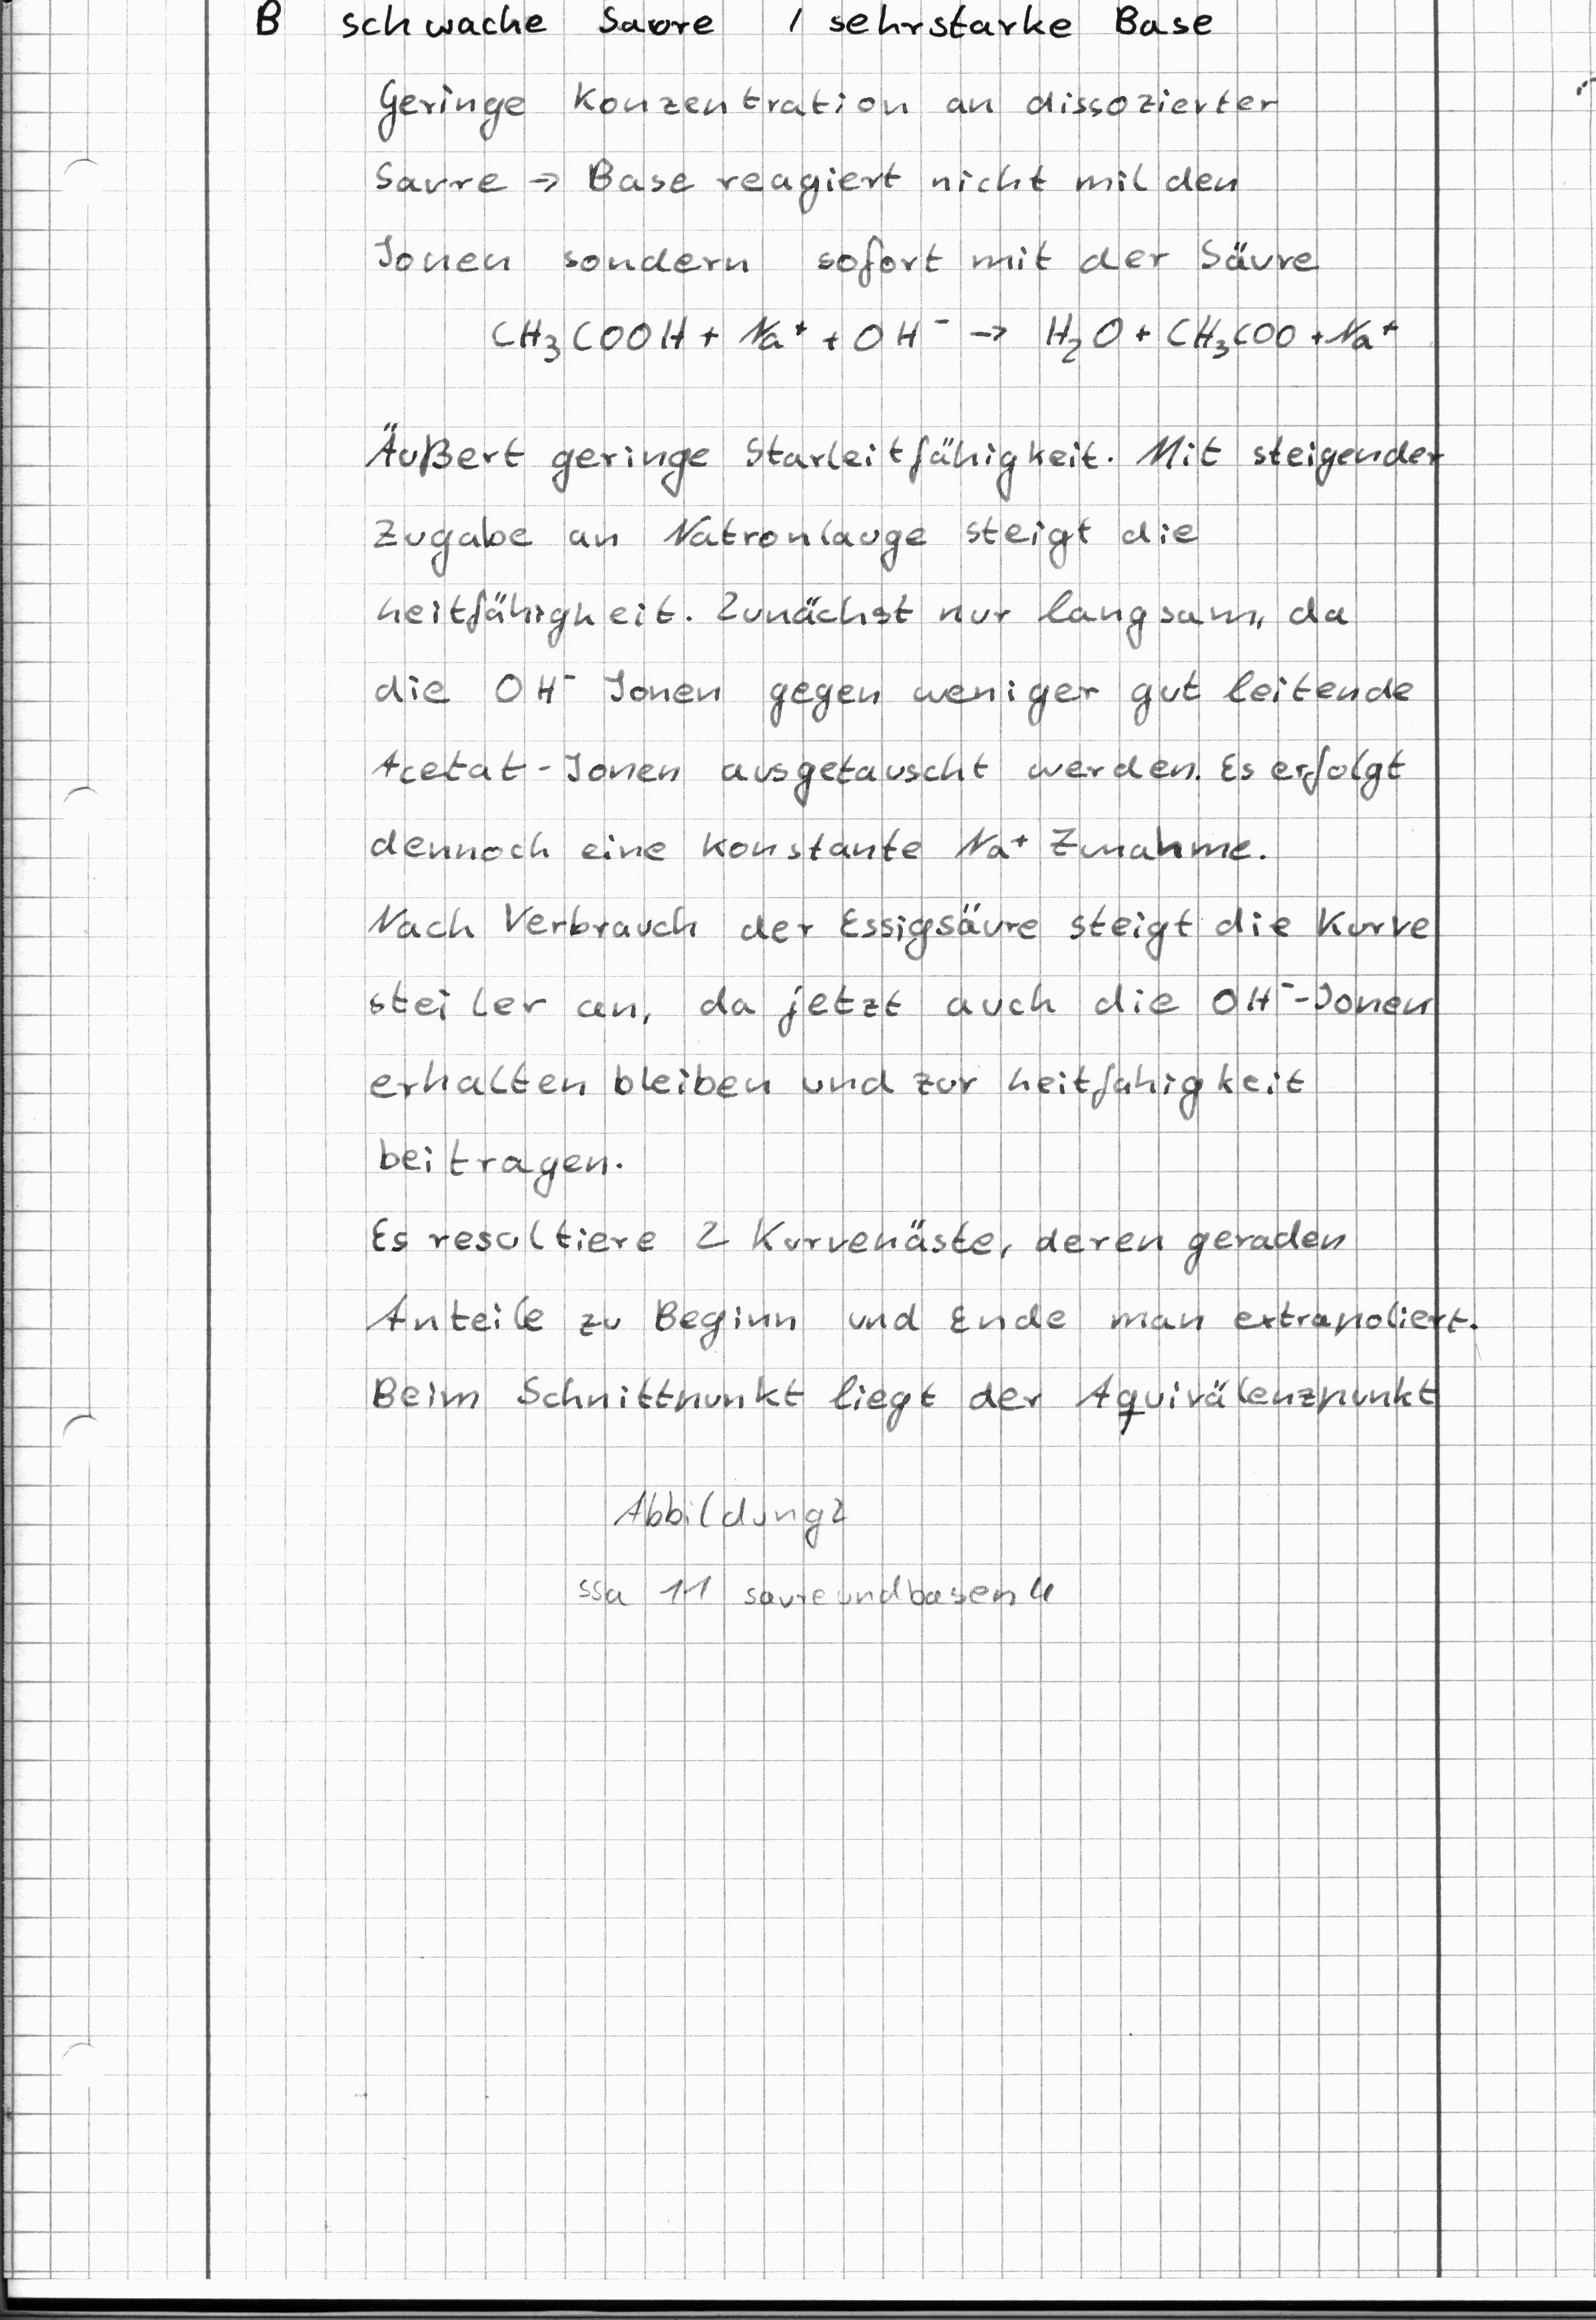word: (349, 384, 1457, 1185), (352, 1201, 1488, 1447), (365, 69, 1334, 291), (479, 295, 1409, 380), (244, 0, 1226, 52)
